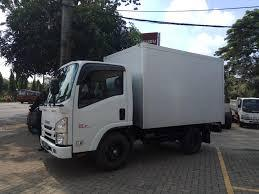truck: (28, 52, 148, 174), (230, 93, 259, 132)
